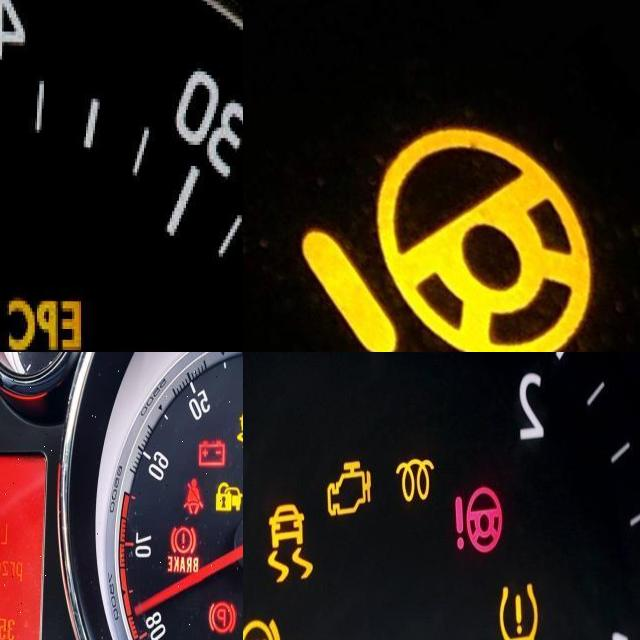Electronic Power Steering: (301, 127, 590, 352), (445, 482, 513, 559), (262, 499, 316, 585)
Seat Belt: (182, 476, 207, 516)
